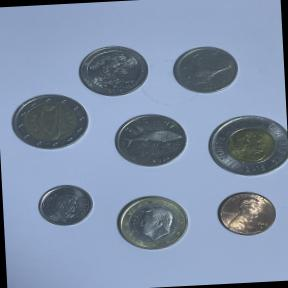1 Euro-B: (108, 189, 199, 258)
2 Euro-B: (8, 92, 92, 153)
Canada-10cent-B: (32, 178, 100, 232)
Canada-2Dollar-B: (201, 109, 288, 182)
Croatia-2Kune-B: (110, 108, 192, 173)
US-1cent-B: (210, 184, 284, 242)
US-25cent-B: (74, 42, 152, 101)
